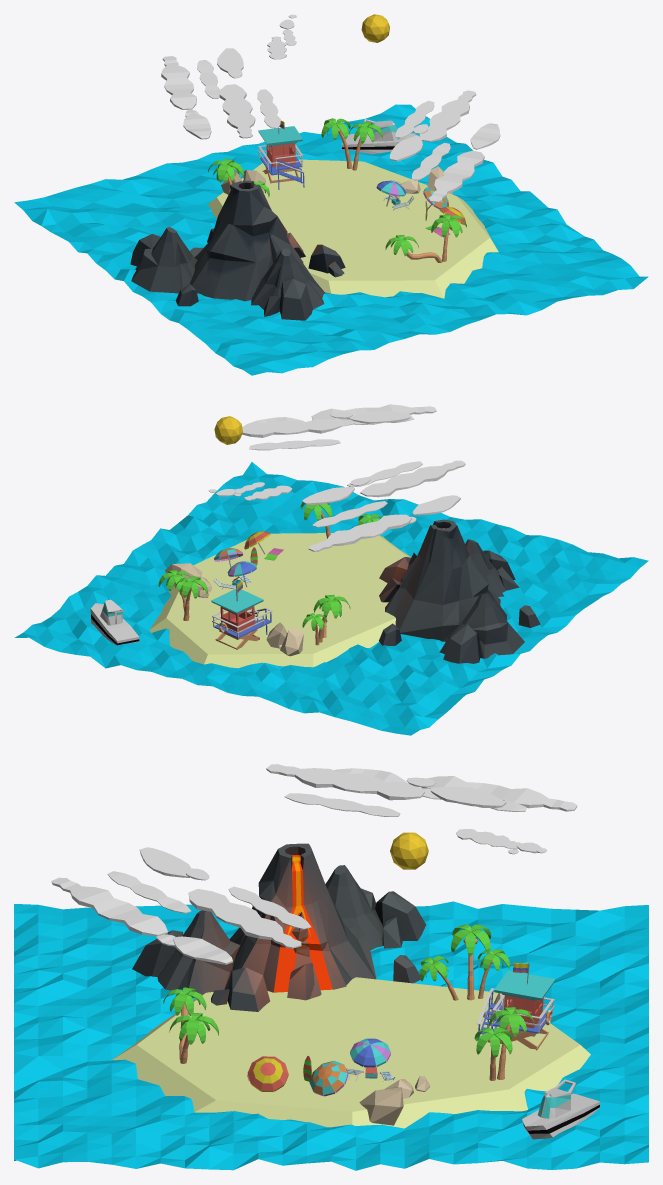
Rendered from beach_level.fbx.
3 views of the same model, one above another, from view 1: azimuth 30°, elevation 25°; view 2: azimuth 150°, elevation 25°; view 3: azimuth 270°, elevation 25° (orthographic). The views are drawn at different scales.
Parts seen in each view (by area): view 1: Low Poly Water, Circle, volcano.001, Plane.012, Plane.005, CABIN, YACHT, SUN, PALM5, PALM1, PALM4.001, PALM1.001; view 2: Low Poly Water, Circle, volcano.001, Plane.012, Plane.005, CABIN, YACHT, SUN, PALM4, PALM4.001, ROCKS.003; view 3: Low Poly Water, Circle, volcano.001, Plane.005, Plane.012, CABIN, YACHT, ROCKS.001, UMBRELLA2, SUN, PALM4, UMBRELLA3 (+7 smaller).
Part boxes in pixels (x1,y1,x2,y2): Low Poly Water: (14, 104, 648, 375); Circle: (208, 159, 498, 298); volcano.001: (130, 180, 345, 320); Plane.012: (161, 14, 296, 139); Plane.005: (389, 90, 500, 202); CABIN: (258, 120, 304, 189); YACHT: (342, 119, 418, 154); SUN: (361, 14, 389, 42); PALM5: (385, 235, 442, 262); PALM1: (431, 214, 466, 261); PALM4.001: (321, 118, 352, 168); PALM1.001: (349, 121, 382, 170); Low Poly Water: (14, 462, 648, 735); Circle: (149, 533, 411, 668); volcano.001: (379, 519, 540, 663); Plane.012: (208, 460, 465, 551); Plane.005: (242, 404, 436, 450); CABIN: (211, 581, 272, 649); YACHT: (90, 599, 139, 645); SUN: (214, 416, 242, 444); PALM4: (313, 594, 350, 642); PALM4.001: (175, 576, 208, 620); ROCKS.003: (278, 628, 303, 656); Low Poly Water: (14, 901, 648, 1170); Circle: (111, 977, 590, 1128); volcano.001: (132, 843, 426, 1011); Plane.005: (51, 847, 311, 964); Plane.012: (266, 764, 577, 854); CABIN: (477, 962, 555, 1050); YACHT: (522, 1079, 599, 1139); ROCKS.001: (359, 1087, 403, 1125); UMBRELLA2: (247, 1056, 288, 1091); SUN: (390, 832, 428, 869); PALM4: (451, 924, 491, 1000); UMBRELLA3: (309, 1060, 348, 1096).
Size of the model in its own units: 31001 by 14671 by 32172.
Materials: 30 (1 with a texture image).
